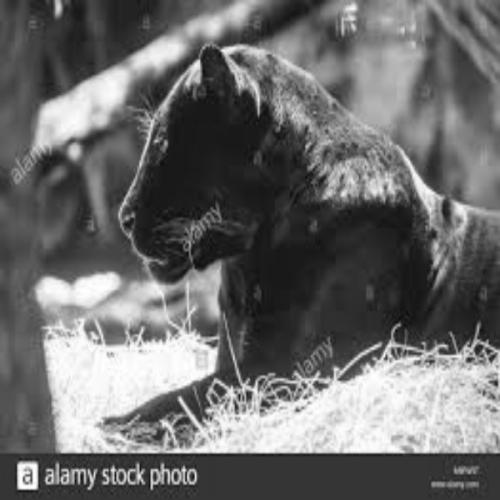panther-endangered: (107, 45, 500, 437)
